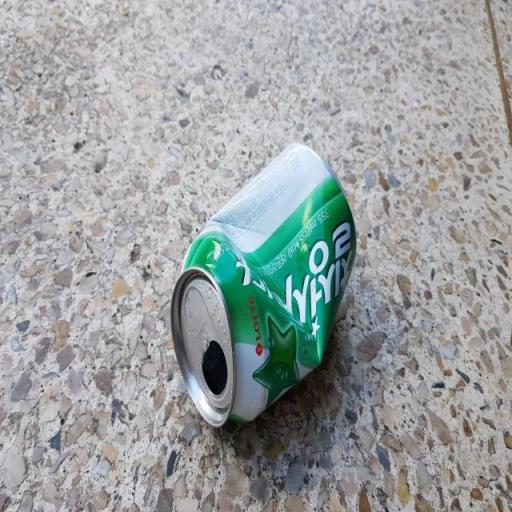metal: (159, 118, 371, 472)
